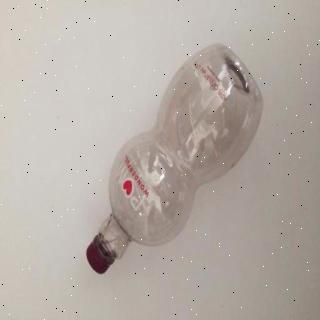Plastic-bottle: (87, 43, 265, 275)
